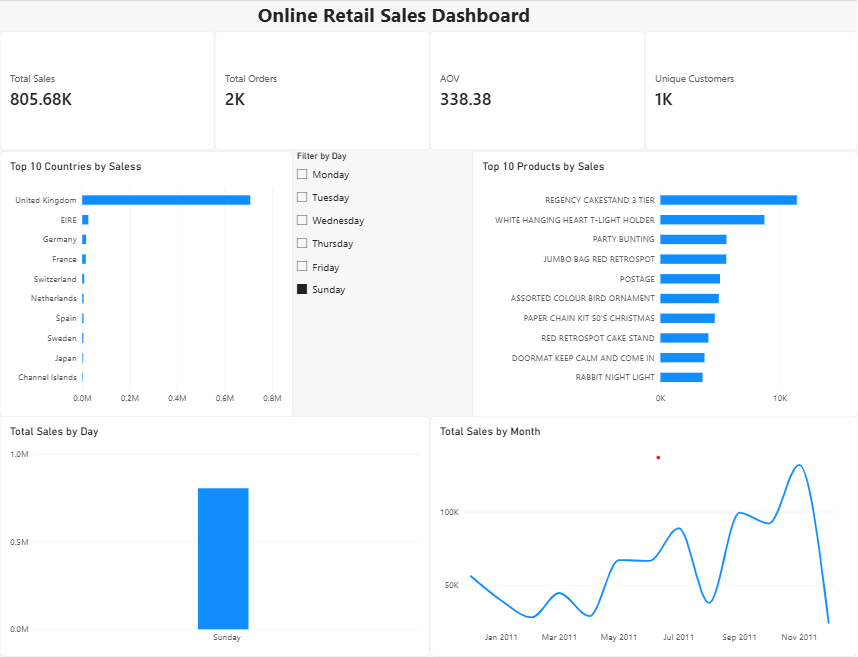

This screenshot's page, from the dashboard's own definition file:
{"tool":"powerbi","page":{"name":"Online Retail Sales Dashboard","canvas":[1920,1080],"ordinal":0},"visuals":[{"type":"cardVisual","fields":{"Data":["online_retail_analytics online_retail_final.Total Sales"]},"box":[310,50,354,196],"z":0},{"type":"cardVisual","fields":{"Data":["online_retail_analytics online_retail_final.Total Orders"]},"box":[664,50,354,196],"z":1000},{"type":"cardVisual","fields":{"Data":["online_retail_analytics online_retail_final.Unique Customers"]},"box":[1372,50,350,196],"z":2000},{"type":"cardVisual","fields":{"Data":["online_retail_analytics online_retail_final.AOV"]},"box":[1018,50,354,196],"z":3000},{"type":"clusteredBarChart","title":"Top 10 Countries by Saless","fields":{"Category":["online_retail_analytics online_retail_final.country"],"Y":["online_retail_analytics online_retail_final.Total Sales"]},"box":[310,246,482,438],"z":4000},{"type":"lineChart","title":"Total Sales by Month","fields":{"Y":["online_retail_analytics online_retail_final.Total Sales"],"Category":["online_retail_analytics online_retail_final.invoice_date.Variation.Date Hierarchy.Year","online_retail_analytics online_retail_final.invoice_date.Variation.Date Hierarchy.Month"]},"box":[1018,684,704,396],"z":5000},{"type":"clusteredBarChart","title":"Top 10 Products by Sales","fields":{"Category":["online_retail_analytics online_retail_final.description"],"Y":["online_retail_analytics online_retail_final.Total Sales"]},"box":[1088,246,634,438],"z":6000},{"type":"clusteredColumnChart","title":"Total Sales by Day","fields":{"Category":["online_retail_analytics online_retail_final.Day Name"],"Y":["online_retail_analytics online_retail_final.Total Sales"]},"box":[310,684,708,396],"z":7000},{"type":"textbox","box":[716.3,0,487.8,63.8],"z":8000},{"type":"slicer","fields":{"Values":["online_retail_analytics online_retail_final.Day Name"]},"box":[792.5,247,296.4,436.4],"z":9000}]}

Visuals, with their boxes on the page's 1920x1080 design canvas (x1, y1, x2, y2). These are canvas units, not pixel positions in the 858x657 screenshot, which may show the page scaled, cropped or inside an application window:
cardVisual - online_retail_analytics online_retail_final.Total Sales: locate(310, 50, 664, 246)
cardVisual - online_retail_analytics online_retail_final.Total Orders: locate(664, 50, 1018, 246)
cardVisual - online_retail_analytics online_retail_final.Unique Customers: locate(1372, 50, 1722, 246)
cardVisual - online_retail_analytics online_retail_final.AOV: locate(1018, 50, 1372, 246)
"Top 10 Countries by Saless" clusteredBarChart: locate(310, 246, 792, 684)
"Total Sales by Month" lineChart: locate(1018, 684, 1722, 1080)
"Top 10 Products by Sales" clusteredBarChart: locate(1088, 246, 1722, 684)
"Total Sales by Day" clusteredColumnChart: locate(310, 684, 1018, 1080)
textbox: locate(716, 0, 1204, 64)
slicer - online_retail_analytics online_retail_final.Day Name: locate(792, 247, 1089, 683)
